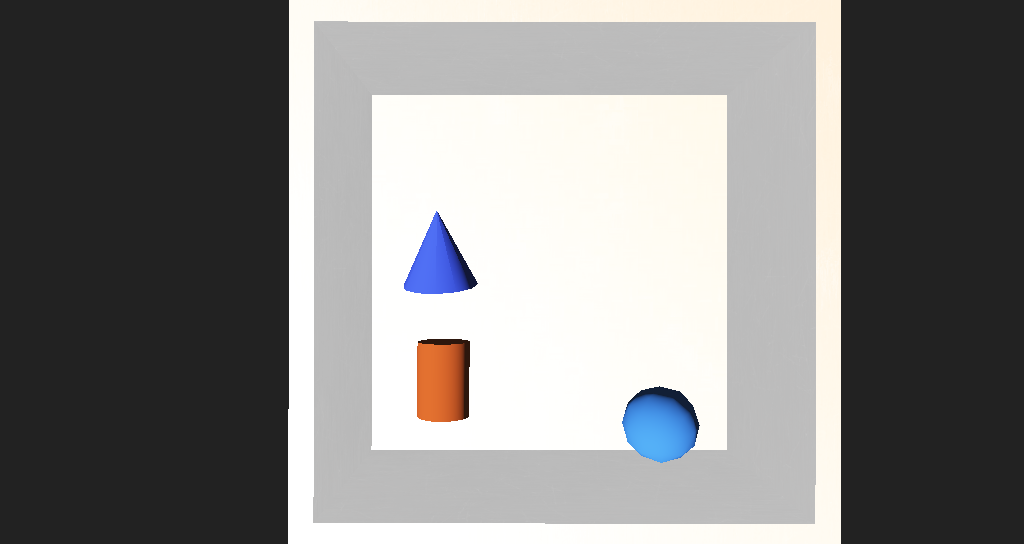cone: (394, 308, 441, 360)
cylinder: (374, 224, 448, 282)
sphere: (569, 334, 630, 382)
